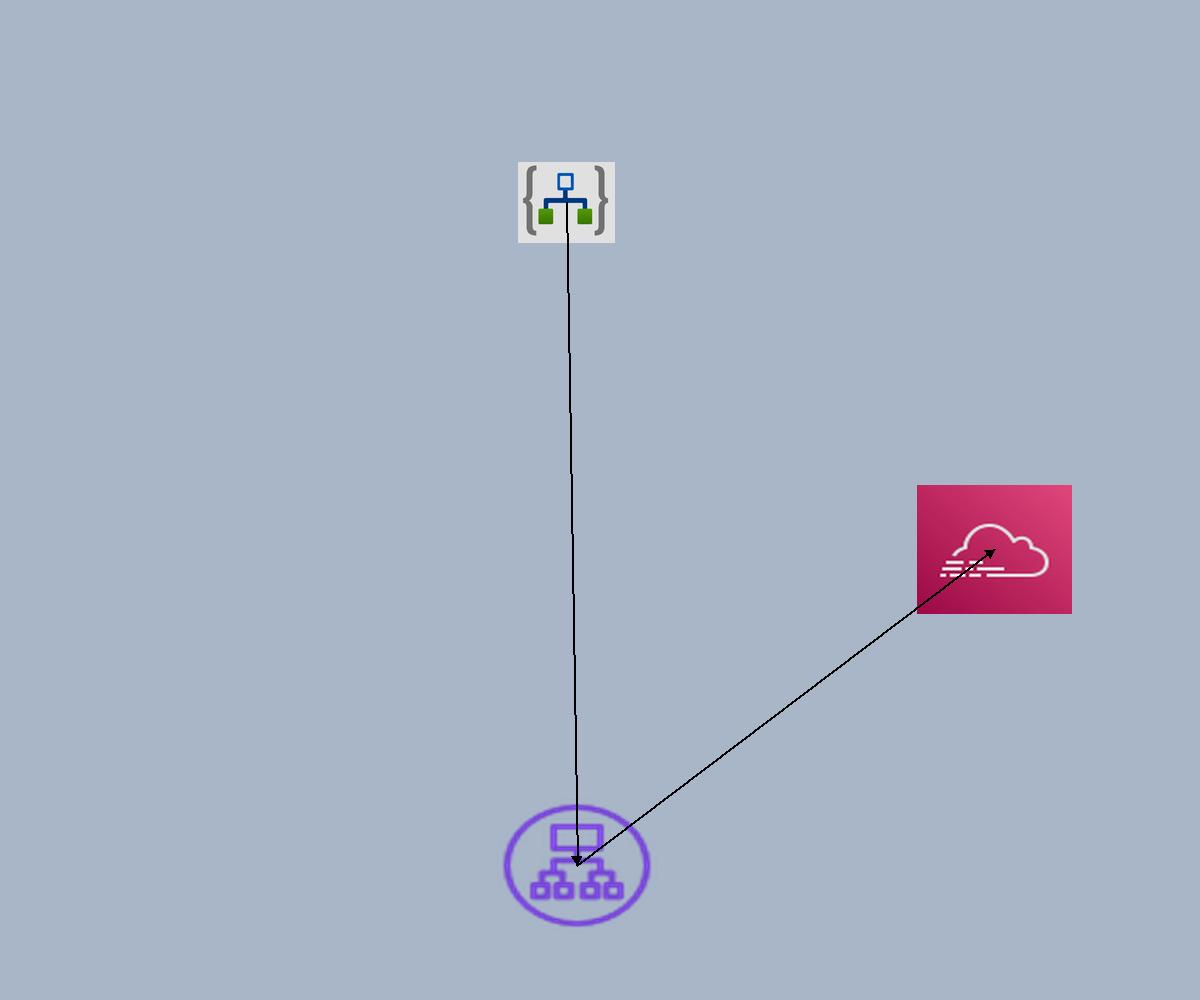AWS-CloudTrail: (917, 485, 1072, 614)
AWS-Res_Elastic-Load-Balancing_Application-Load-Balancer: (497, 799, 657, 932)
Azure_integration-204-Logic-Apps: (518, 162, 615, 243)
